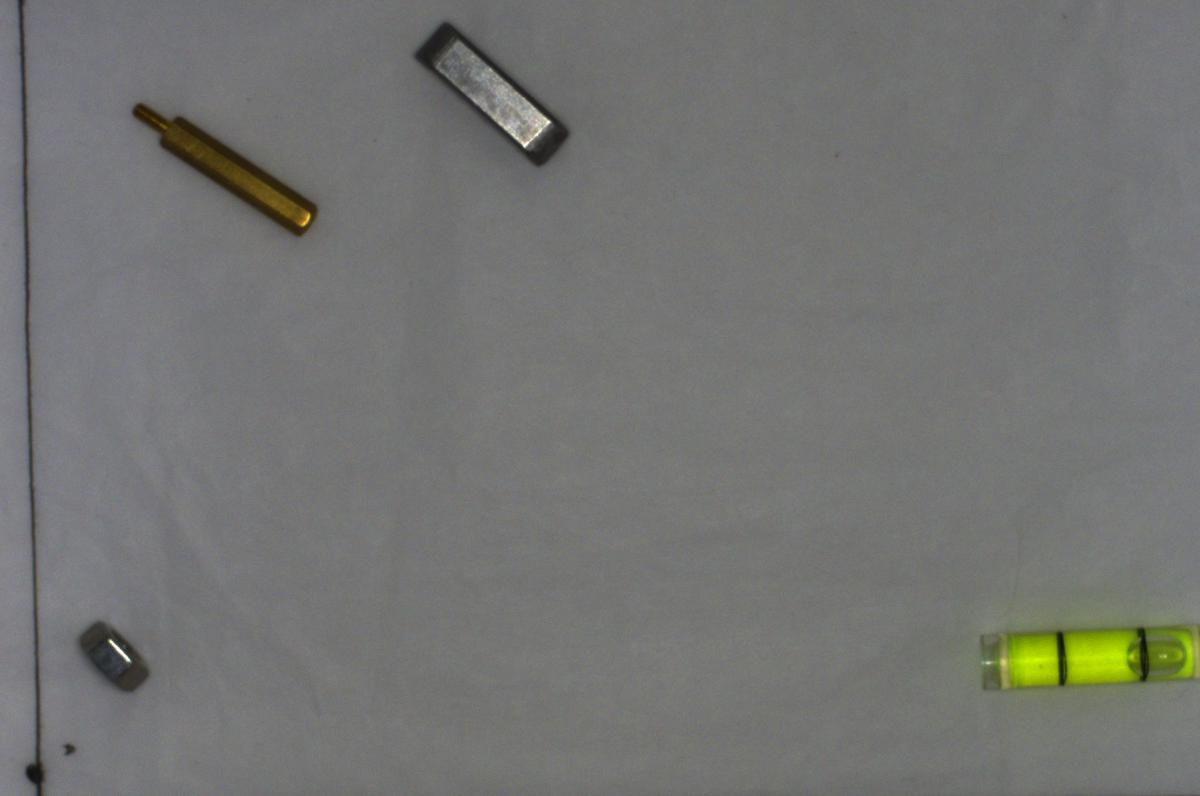Hexagon nut: (70, 613, 154, 698)
Hexagon pillar: (120, 87, 325, 240)
Horizontal bubble: (972, 607, 1197, 703)
Keybar: (408, 13, 574, 174)
